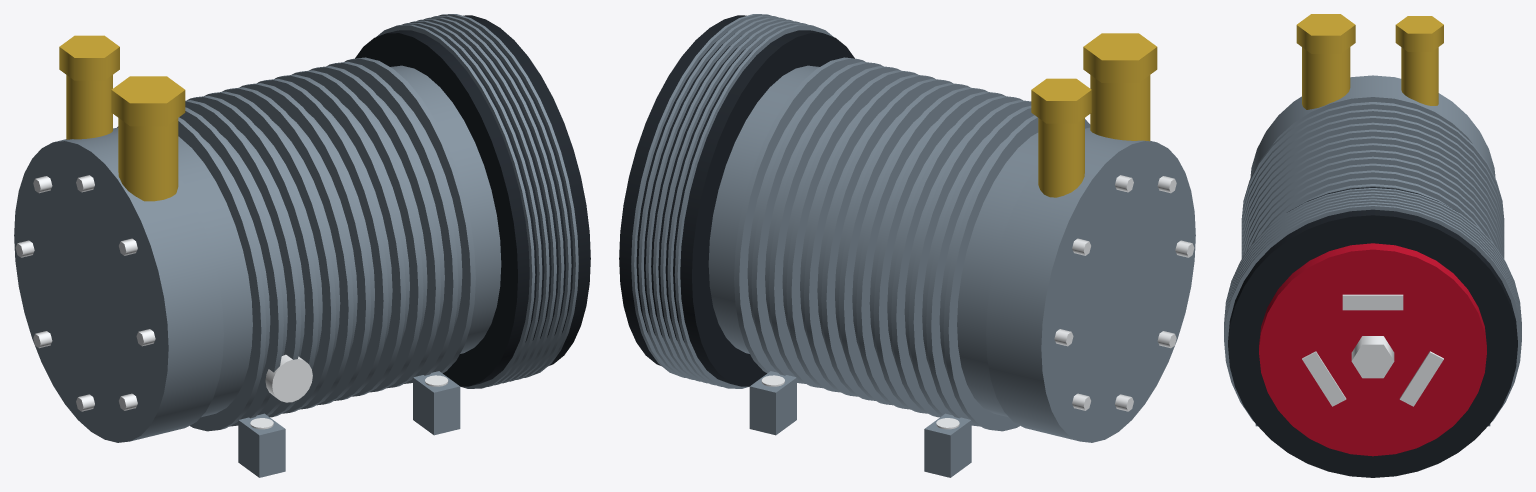
The model's file is ac_compressor_heavy.glb.
3 renders of one model, left to right at view 1: azimuth 30°, elevation 25°; view 2: azimuth 150°, elevation 25°; view 3: azimuth 270°, elevation 25°, orthographic. The views are drawn at different scales.
Visible parts, largest first — view 1: SpherosCompressorCC305; view 2: SpherosCompressorCC305; view 3: SpherosCompressorCC305.
Part boxes in pixels (bbox=[...]): SpherosCompressorCC305: bbox=[14, 14, 590, 477]; SpherosCompressorCC305: bbox=[619, 14, 1195, 477]; SpherosCompressorCC305: bbox=[1224, 14, 1521, 477].
Bounding box in the file's own units: 3.15 × 2.54 × 2.22.
